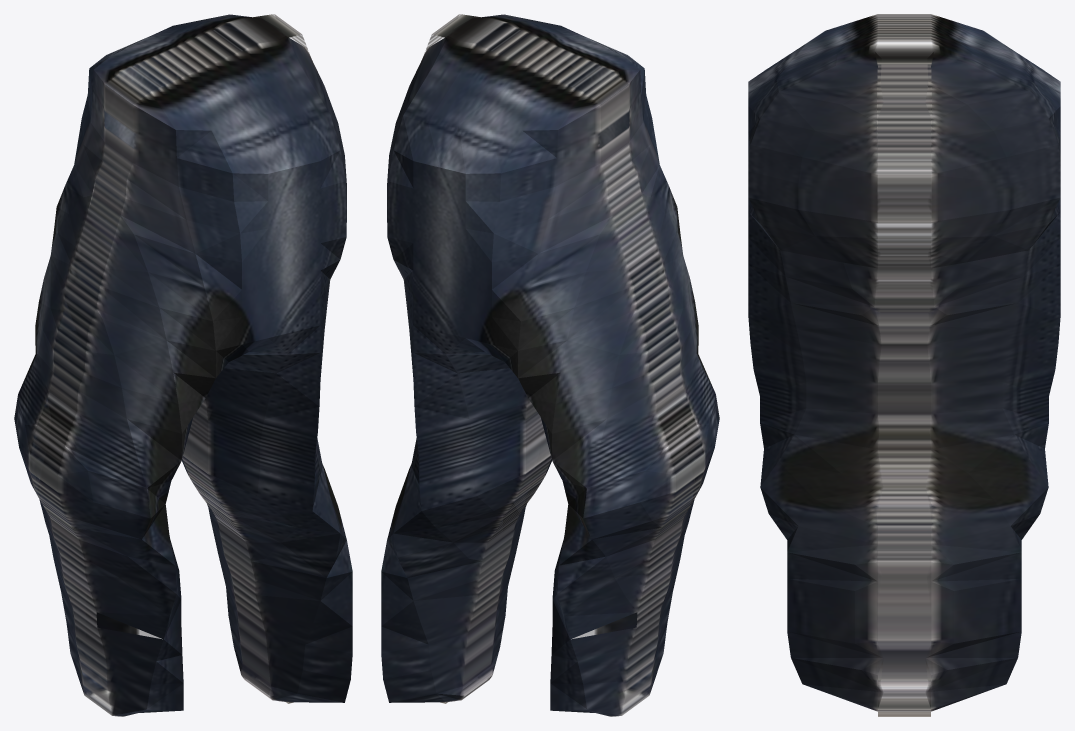
File: sena-circuit-base-layer-041.glb
3 renders of one model, left to right at view 1: azimuth 30°, elevation 25°; view 2: azimuth 150°, elevation 25°; view 3: azimuth 270°, elevation 25°, orthographic. The views are drawn at different scales.
Parts seen in each view (by area): view 1: world; view 2: world; view 3: world.
Boxes of the visible parts, <box> form: world: <box>14,14,352,716</box>; world: <box>381,14,719,716</box>; world: <box>748,14,1060,716</box>.
Bounding box in the file's own units: 0.4372 × 1 × 0.44.
Materials: 1 (1 with a texture image).
